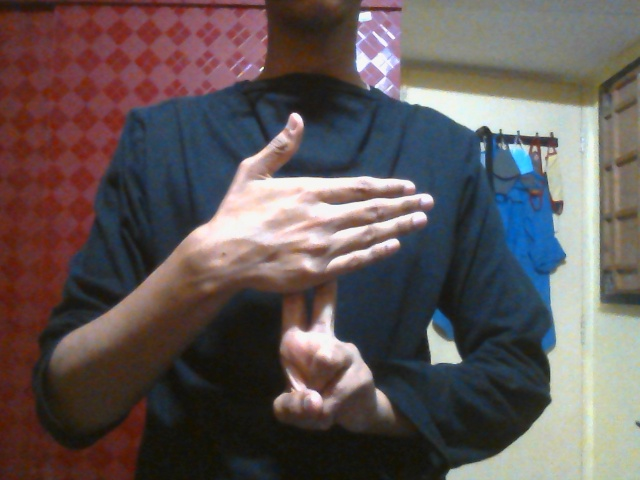N: (214, 110, 434, 436)
